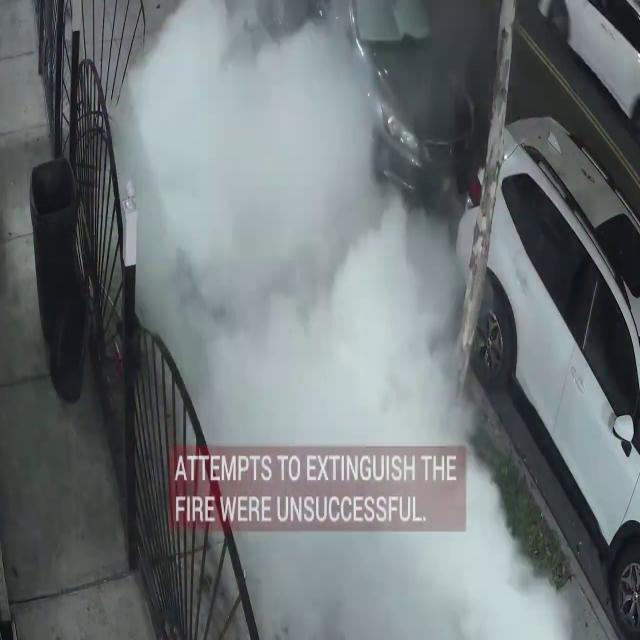Smoke: (121, 2, 573, 640)
